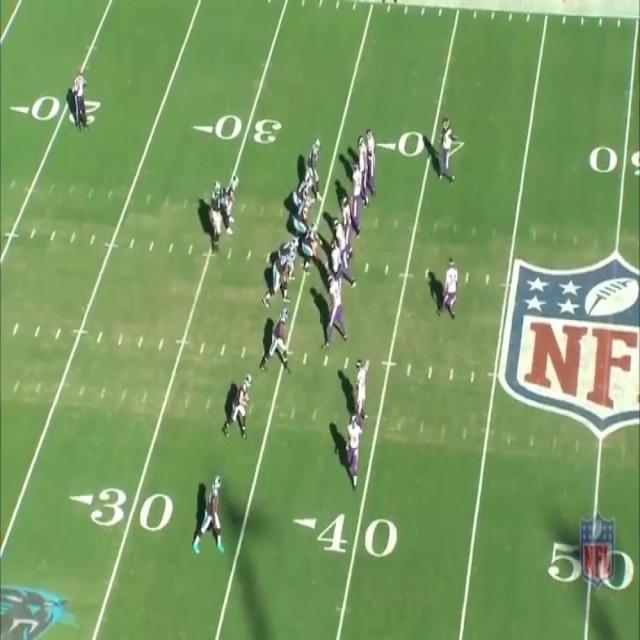center: (301, 225, 316, 262)
db: (345, 416, 360, 484), (440, 260, 456, 314), (442, 123, 457, 180), (357, 366, 369, 418)
qb: (212, 183, 222, 245)
